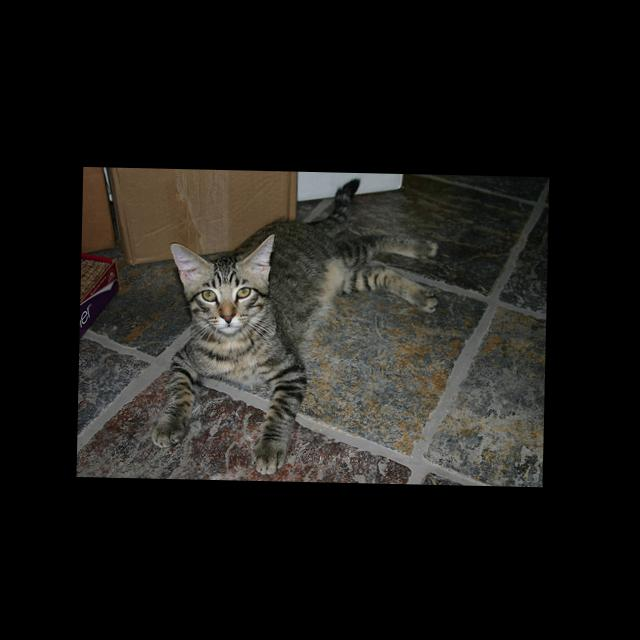animals: (172, 230, 274, 321)
